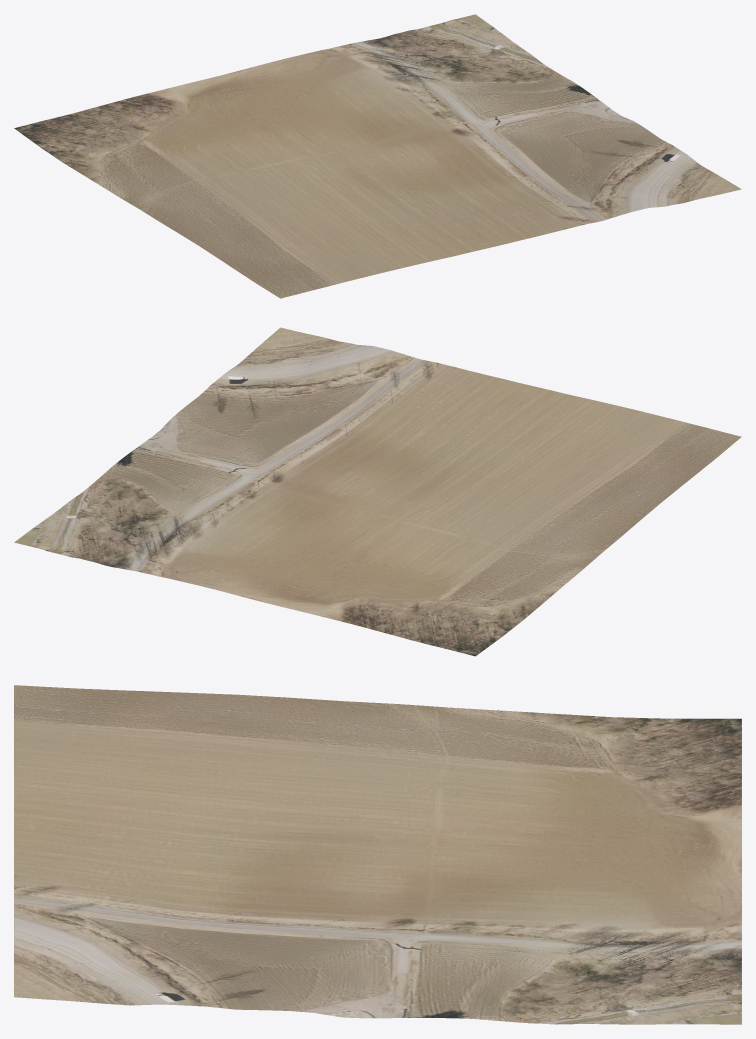
Rendered from CM_Terrain_24490663_6818975.fbx.
3 renders of one model, top to bottom at view 1: azimuth 30°, elevation 25°; view 2: azimuth 150°, elevation 25°; view 3: azimuth 270°, elevation 25°, orthographic. The views are drawn at different scales.
Parts seen in each view (by area): view 1: CM_Terrain_24490663_6818975_LOD0; view 2: CM_Terrain_24490663_6818975_LOD0; view 3: CM_Terrain_24490663_6818975_LOD0.
Part boxes in pixels (bbox=[...]): CM_Terrain_24490663_6818975_LOD0: bbox=[14, 14, 741, 298]; CM_Terrain_24490663_6818975_LOD0: bbox=[14, 327, 741, 656]; CM_Terrain_24490663_6818975_LOD0: bbox=[14, 685, 741, 1024].
Size of what is drawn, in the model's own units: 205 by 10.82 by 205.
